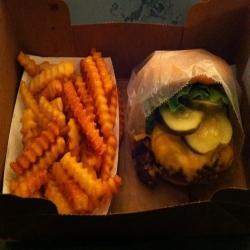burger: (133, 64, 243, 194)
fries: (8, 53, 124, 221)
